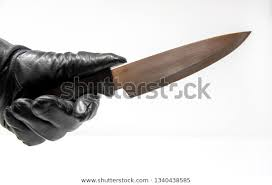knife: (75, 28, 257, 99)
